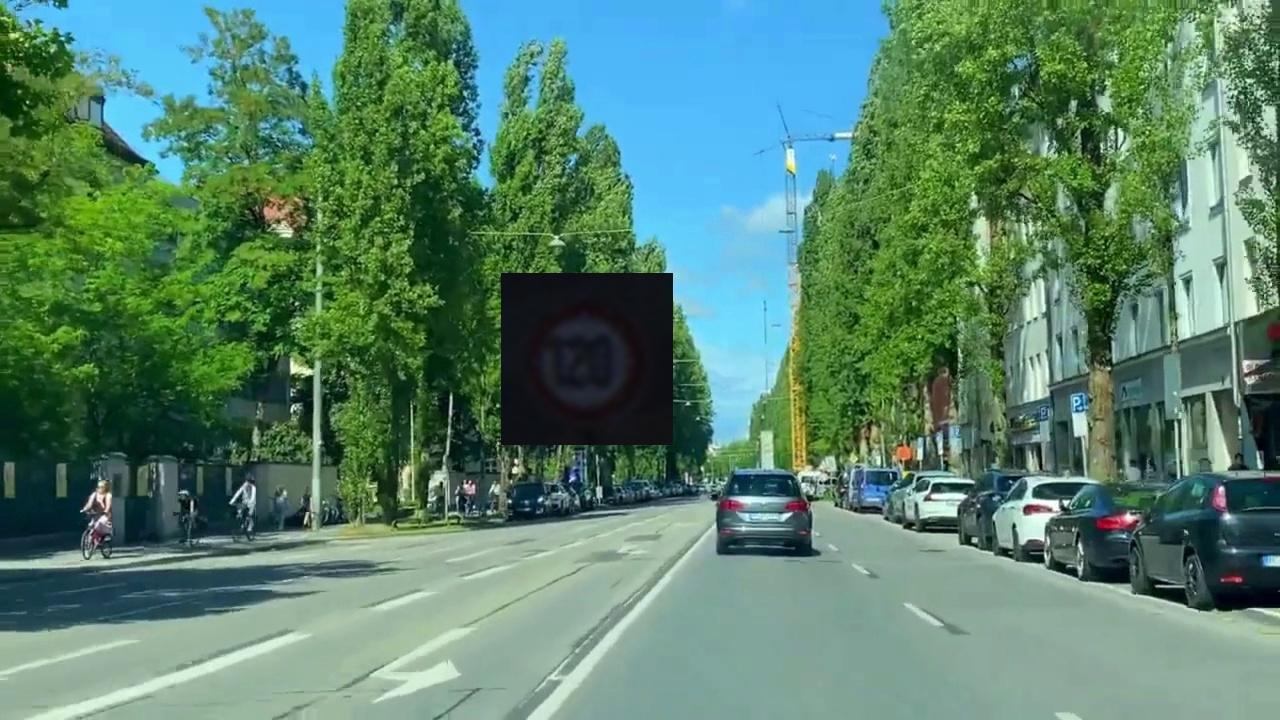Speed 120: (501, 273, 673, 445)
